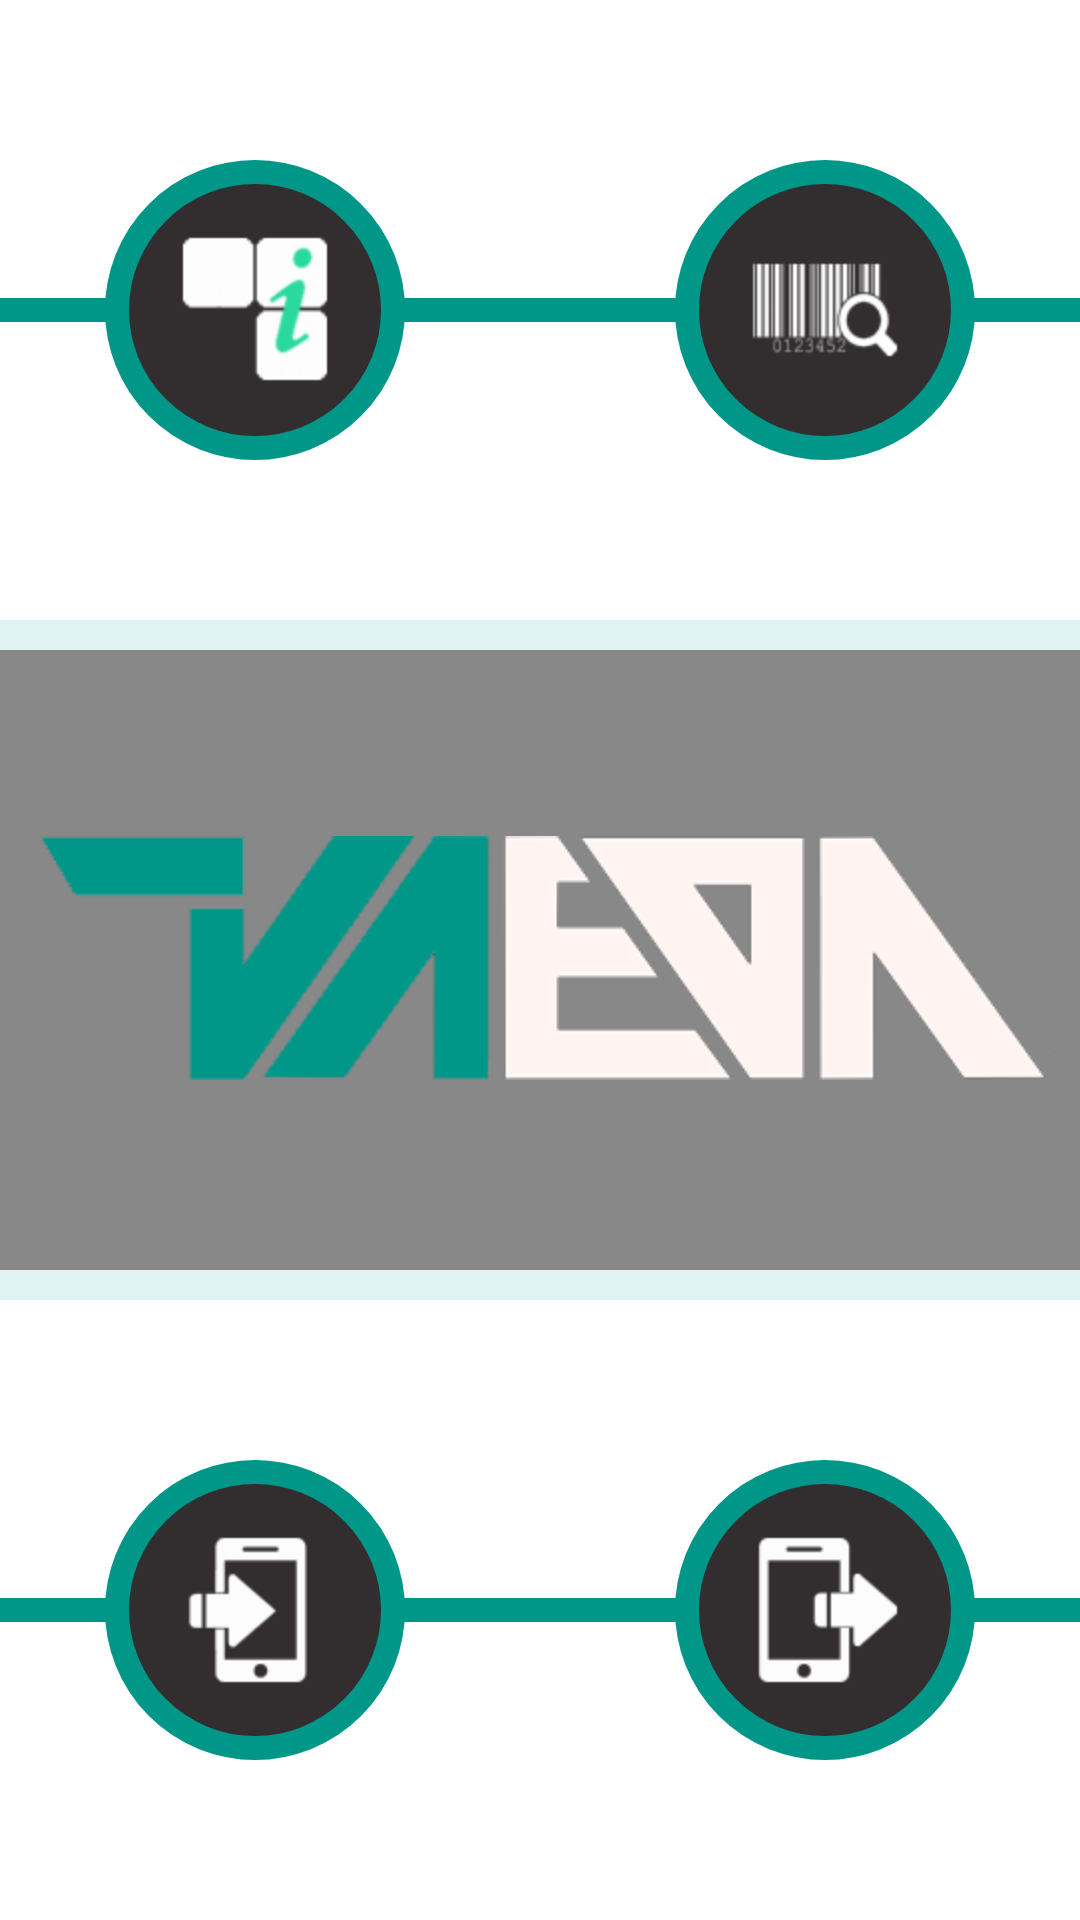

Screen size 1080w x 1920h. Icon name, then its center in pixels as [x,y]:
info: [255,310]
sign in: [255,1610]
sign out: [825,1610]
